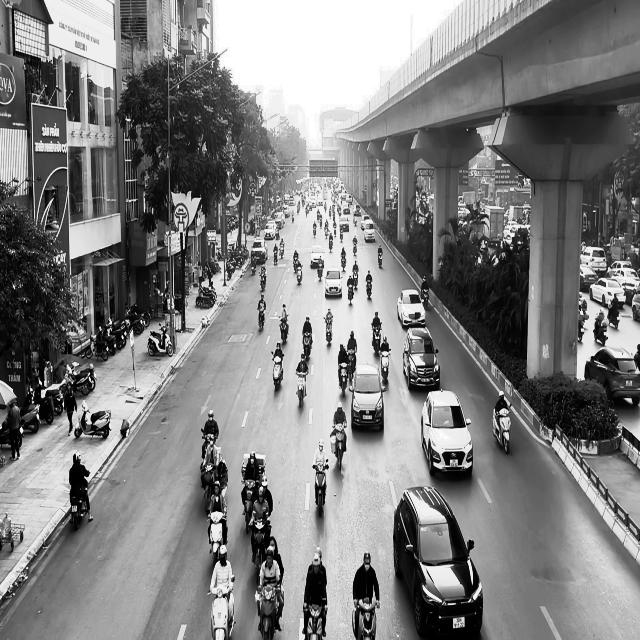car: (393, 484, 483, 638), (421, 389, 473, 476), (584, 346, 640, 406), (402, 326, 440, 391), (350, 364, 386, 432), (397, 289, 426, 327), (324, 267, 342, 297), (310, 244, 325, 267)
motorbike: (207, 576, 235, 640), (254, 581, 284, 639), (74, 400, 111, 439), (250, 518, 270, 584), (352, 598, 379, 640), (492, 402, 512, 454), (207, 512, 227, 564), (240, 478, 258, 534), (69, 480, 89, 530), (303, 599, 327, 640), (148, 322, 174, 357), (312, 461, 328, 517), (201, 463, 217, 514), (332, 424, 347, 471), (271, 350, 284, 391), (296, 369, 308, 408), (379, 348, 391, 384), (201, 428, 214, 461), (338, 362, 348, 397), (346, 349, 356, 383), (371, 324, 381, 355), (323, 316, 333, 346), (302, 331, 313, 358), (279, 315, 289, 343), (258, 306, 266, 332), (347, 276, 354, 304), (259, 270, 266, 291), (366, 279, 372, 299), (341, 252, 346, 272), (378, 252, 382, 268)
